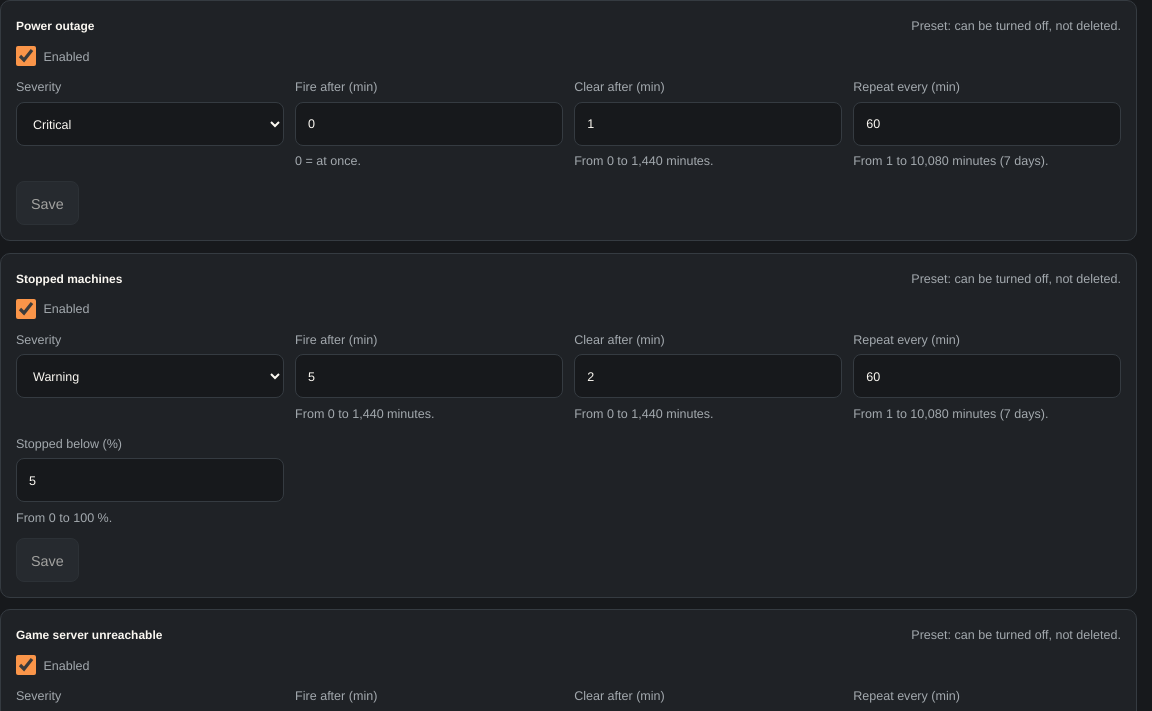
RulesEditor › shows a field's error, tied to it, and sends nothing
Step 1. Replace the text in the 2nd field labelled "Repeat every (min)" with "0.5" → (987, 376), box [853,354,1121,398]
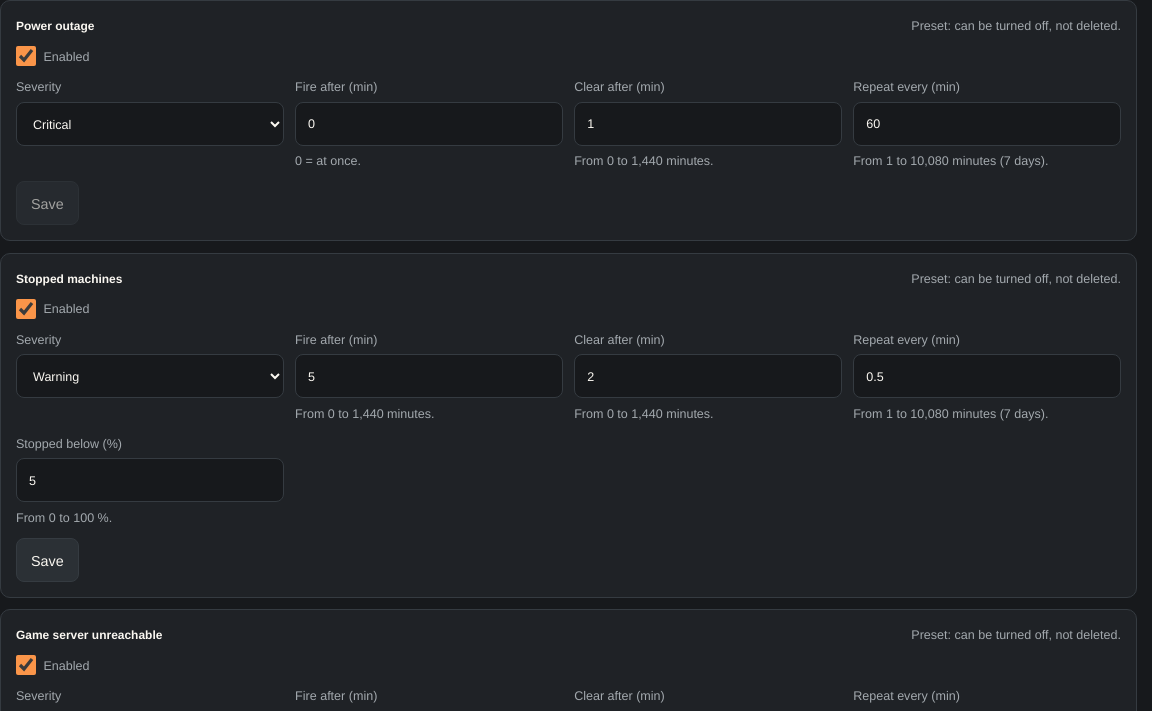
Step 2. Click the button "Save" below "From 0 to 100 %." → (47, 560), box [16,538,79,582]
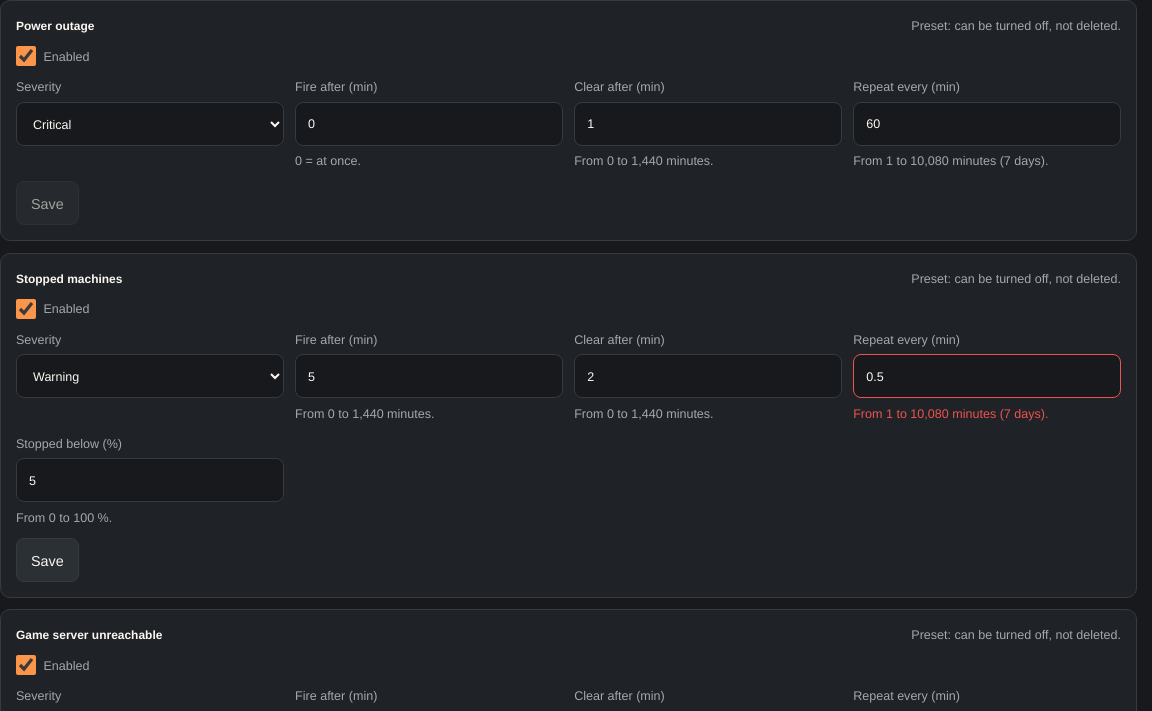
Now the text "From 1 to 10,080 minutes (7 days)." is shown once, box [853,405,1048,421]
